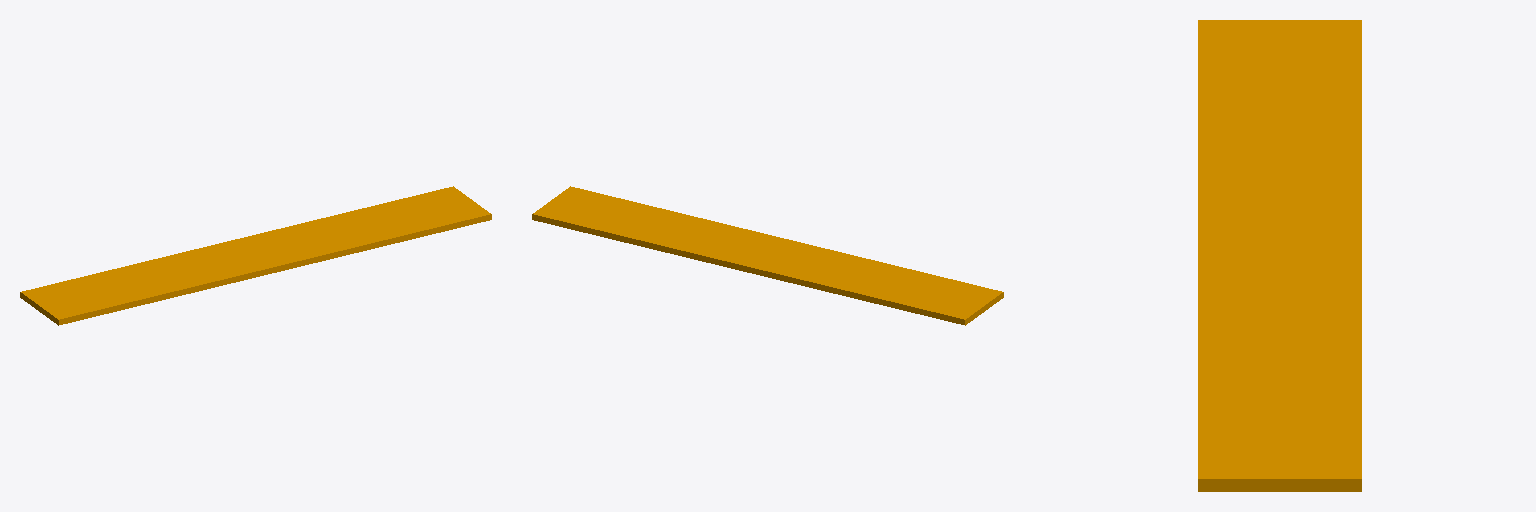
robot.urdf — laptop_key:
<robot name="laptop_key">
<link name="key"><inertial><origin xyz="0.00000 0.00000 0.00000"/><mass value="0.003"/><inertia ixx="4.936e-08" ixy="0" ixz="0" iyy="2.116e-06" iyz="0" izz="2.165e-06"/></inertial>
<visual><origin xyz="0.00000 0.00000 0.00000" rpy="0.00000 0.00000 0.00000"/><geometry><mesh filename="laptop_key_vis.obj"/></geometry></visual>
<collision><origin xyz="0.00000 0.00000 0.00000" rpy="0 0 0"/><geometry><box size="0.09200 0.01400 0.00120"/></geometry></collision>
</link>
</robot>

--- Render facts (derived) ---
The picture shows the robot from 3 angles, left to right: view 1: azimuth 30°, elevation 25°; view 2: azimuth 150°, elevation 25°; view 3: azimuth 270°, elevation 25°; orthographic projection.
Model laptop_key with 1 links and 0 joints (none), rooted at key, posed every joint at zero.
Visible links, largest first — view 1: key; view 2: key; view 3: key.
Boxes of the visible links, bbox=[...] form: key: bbox=[20, 186, 491, 325]; key: bbox=[532, 186, 1003, 325]; key: bbox=[1198, 20, 1361, 491].
Bounding box of the posed robot: 0.092 × 0.014 × 0.0012 m (x, y, z).
Meshes: 1 distinct files referenced, 1 mesh visuals loaded (1 OBJ).
